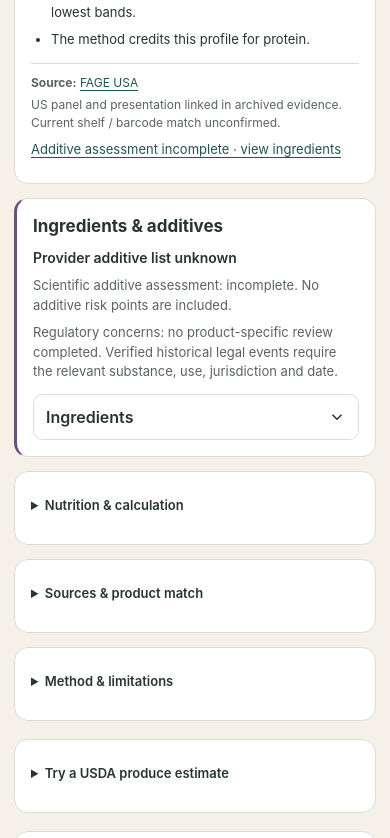
it: real ingredient disclosure starts collapsed and preserves original text
(page scrolled)
What coordinates should you click on to do the following:
click the button "Ingredients"
I would click on:
 (90, 417)
Its box is [34, 395, 358, 439].
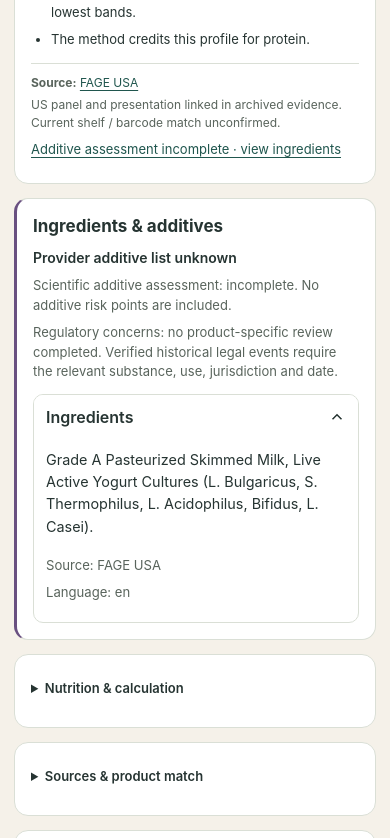
Now the element named "Ingredient text" shows "Grade A Pasteurized Skimmed Milk", box [46, 451, 325, 535]
What coordinates should you click on to do the following:
click the button "Ingredients"
I would click on:
 (90, 417)
Its box is [34, 395, 358, 439].
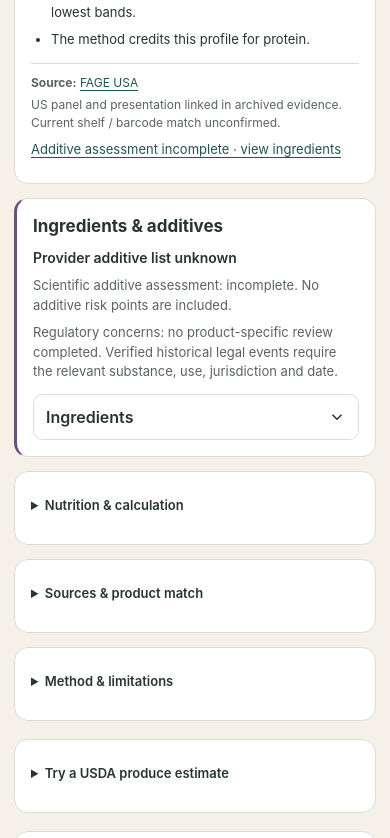
Now the button "Ingredients" is collapsed, box [34, 395, 358, 439]
